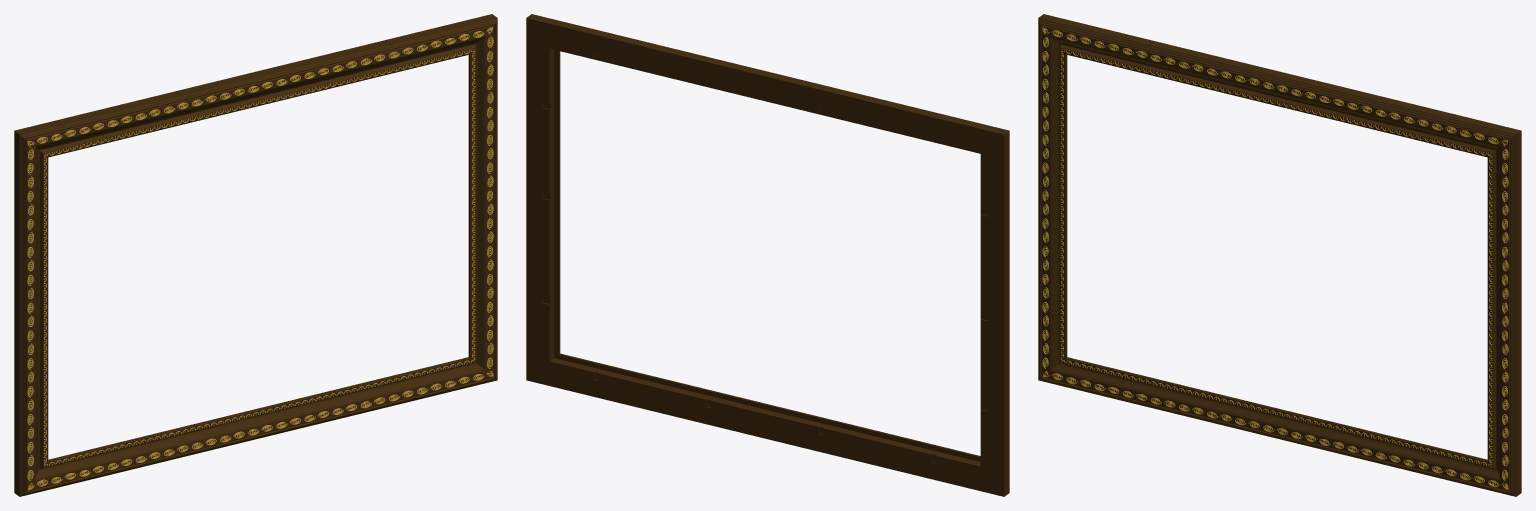
Rendered from parametric-picture-frame.glb.
The picture shows the model from 3 angles, left to right: view 1: azimuth 30°, elevation 25°; view 2: azimuth 150°, elevation 25°; view 3: azimuth 330°, elevation 25°; orthographic projection.
Parts seen in each view (by area): view 1: body, ornament; view 2: body; view 3: body, ornament.
Part boxes in pixels (left/top/right/bottom): body: left=14, top=14, right=497, bottom=496; ornament: left=27, top=27, right=493, bottom=490; body: left=526, top=14, right=1009, bottom=496; body: left=1038, top=14, right=1521, bottom=496; ornament: left=1042, top=27, right=1508, bottom=490.
Size of the model in its own units: 1451 by 1051 by 38.87.
